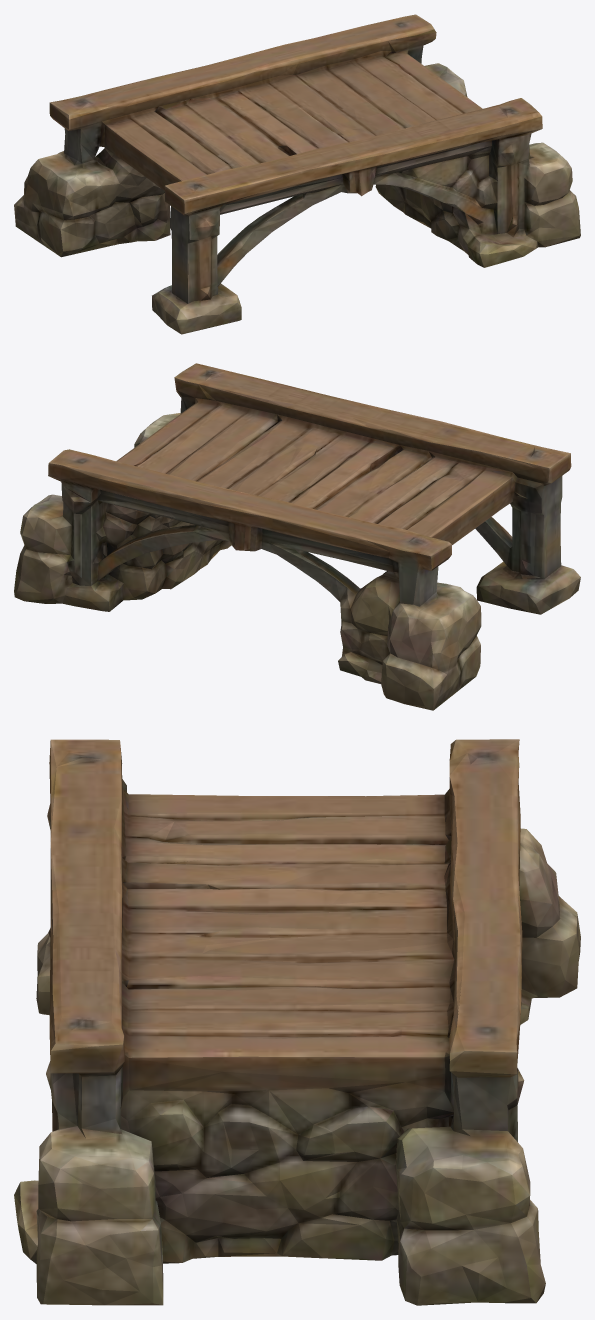
File: meshy_bridge_stone_wood_deck_lod0.glb
3 views of the same model, one above another, from view 1: azimuth 30°, elevation 25°; view 2: azimuth 150°, elevation 25°; view 3: azimuth 270°, elevation 25° (orthographic). The views are drawn at different scales.
Parts seen in each view (by area): view 1: meshy_bridge_stone_wood_deck; view 2: meshy_bridge_stone_wood_deck; view 3: meshy_bridge_stone_wood_deck.
Part boxes in pixels (box(x1,y1,x2,y2)): meshy_bridge_stone_wood_deck: box(14, 14, 580, 334); meshy_bridge_stone_wood_deck: box(14, 363, 580, 710); meshy_bridge_stone_wood_deck: box(14, 739, 580, 1305).
Bounding box in the file's own units: 9.84 × 3 × 6.6.
1 material, 1 textured.
